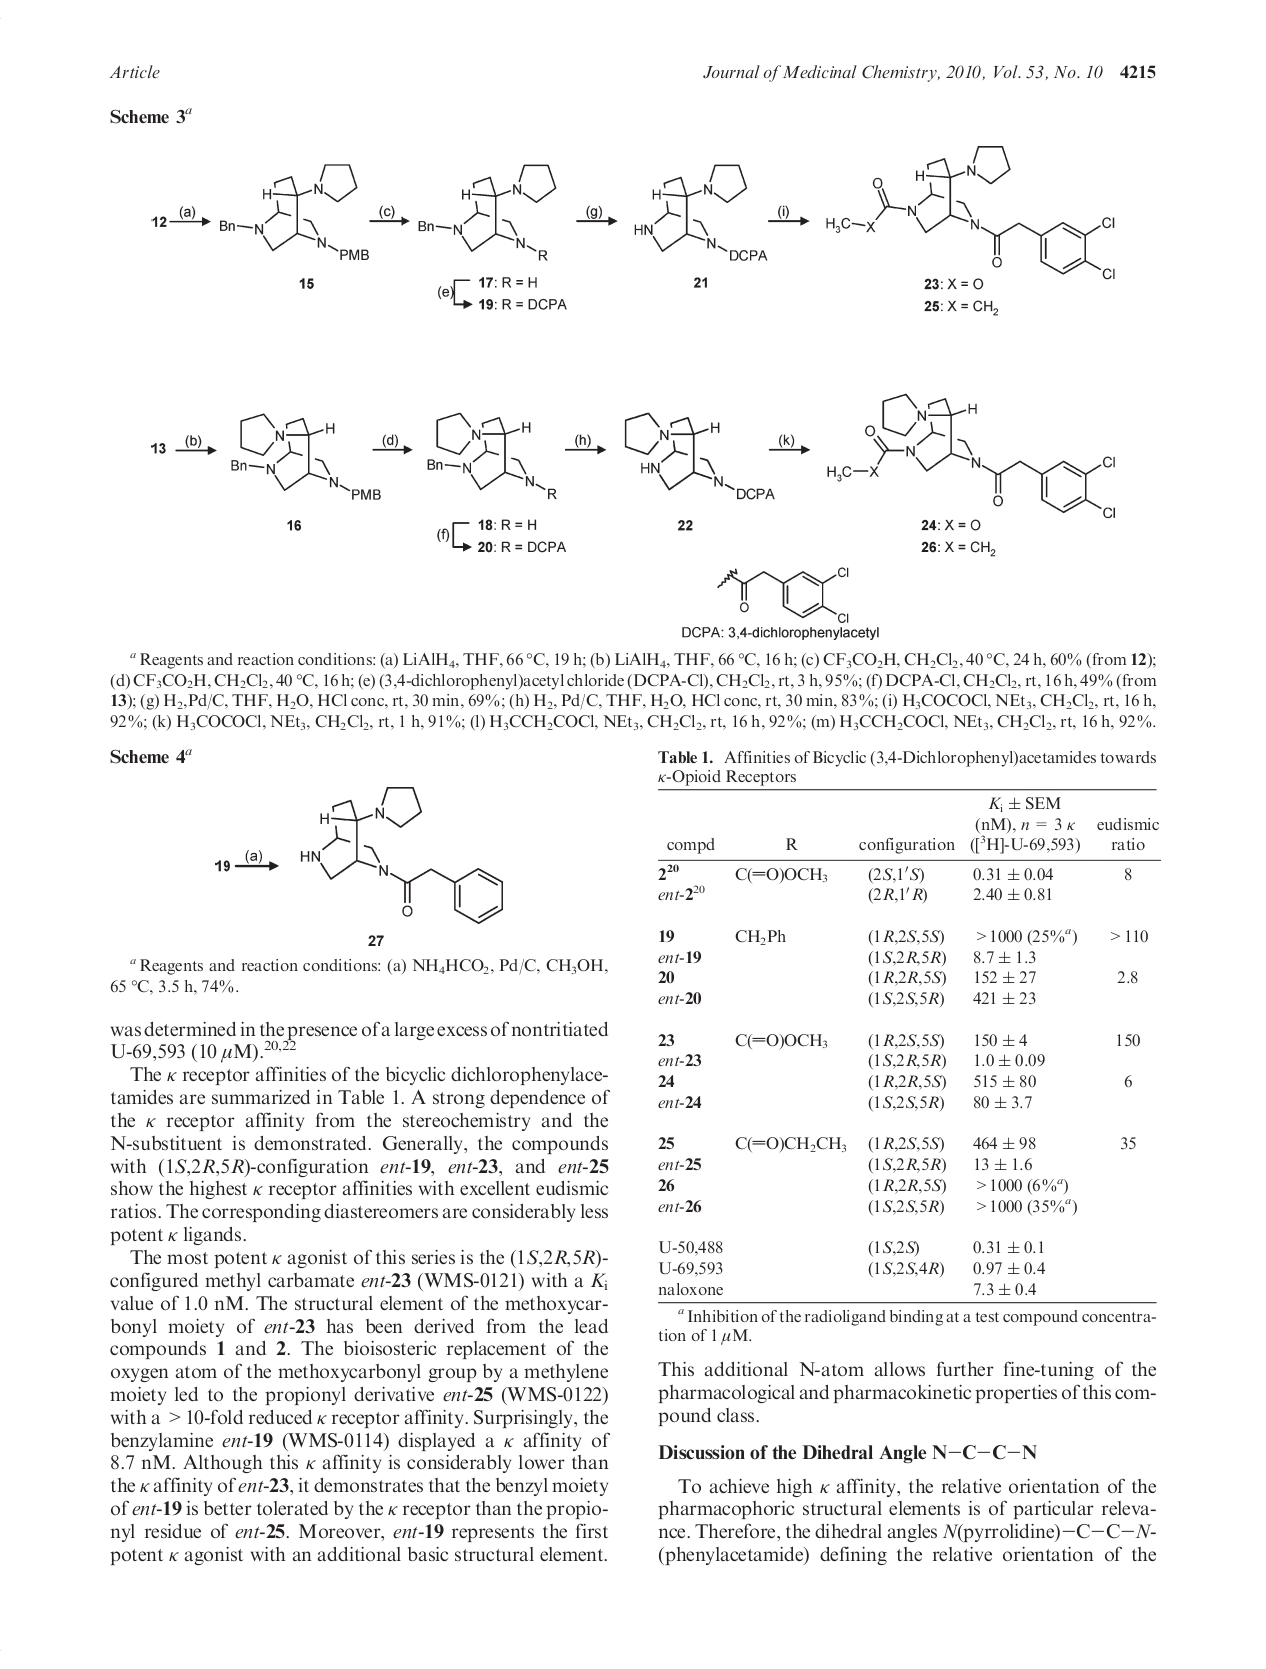exist_molecular: (818, 129, 1121, 291), (821, 384, 1120, 527), (299, 782, 513, 926), (213, 150, 375, 273), (622, 149, 769, 274), (418, 148, 564, 265), (620, 406, 778, 512), (231, 402, 386, 508), (423, 403, 570, 508), (711, 559, 860, 626)
